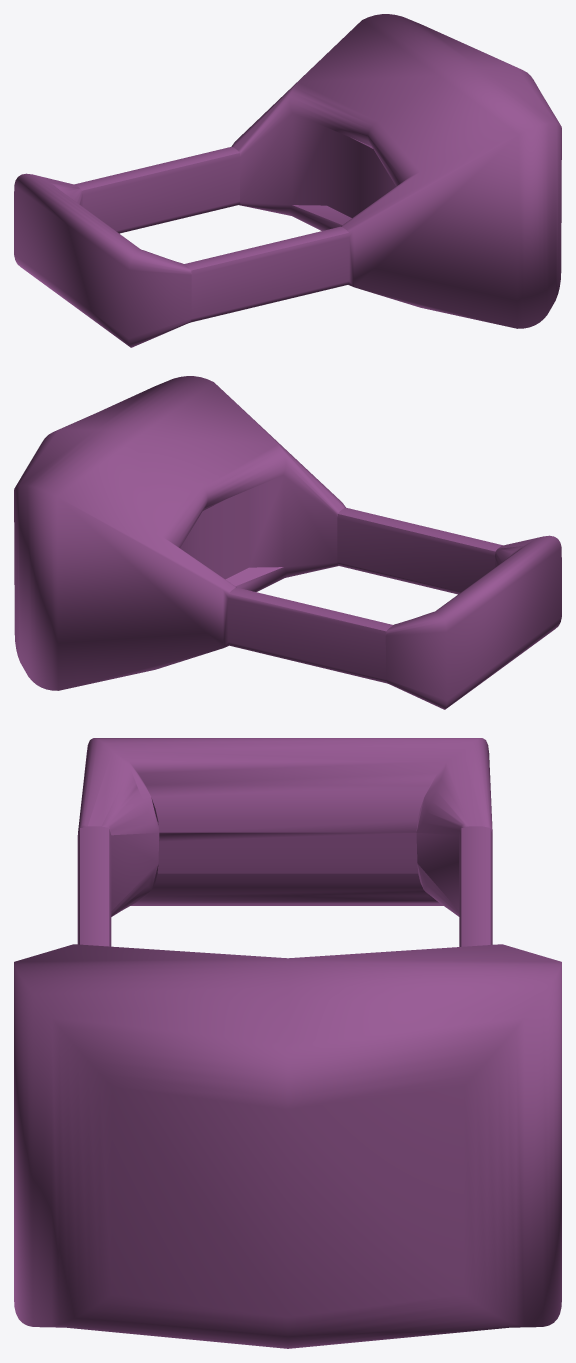
File: VrMachineGoggels.fbx
The picture shows the model from 3 angles, top to bottom: view 1: azimuth 30°, elevation 25°; view 2: azimuth 150°, elevation 25°; view 3: azimuth 270°, elevation 25°; orthographic projection. The views are drawn at different scales.
Parts seen in each view (by area): view 1: Box129; view 2: Box129; view 3: Box129.
Part boxes in pixels (<box>): Box129: <box>14,14,561,347</box>; Box129: <box>14,376,561,709</box>; Box129: <box>14,738,561,1348</box>.
Bounding box in the file's own units: 12.78 × 5.24 × 7.45.
